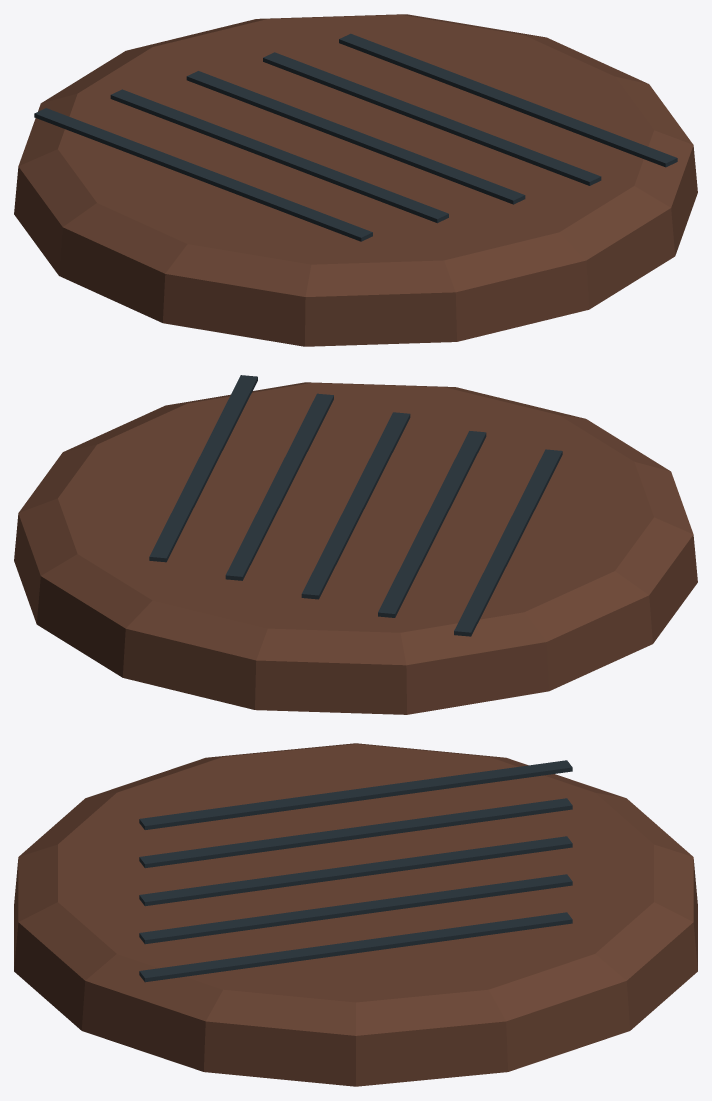
Rendered from Patty_Cooked.glb.
3 renders of one model, top to bottom at view 1: azimuth 30°, elevation 25°; view 2: azimuth 150°, elevation 25°; view 3: azimuth 270°, elevation 25°, orthographic. The views are drawn at different scales.
Parts seen in each view (by area): view 1: Patty_Cooked; view 2: Patty_Cooked; view 3: Patty_Cooked.
Boxes of the visible parts, x1,y1,x2,y2 form: Patty_Cooked: (14, 14, 697, 346); Patty_Cooked: (14, 375, 697, 714); Patty_Cooked: (14, 743, 697, 1086).
Size of the model in its own units: 0.156 by 0.021 by 0.1521.
